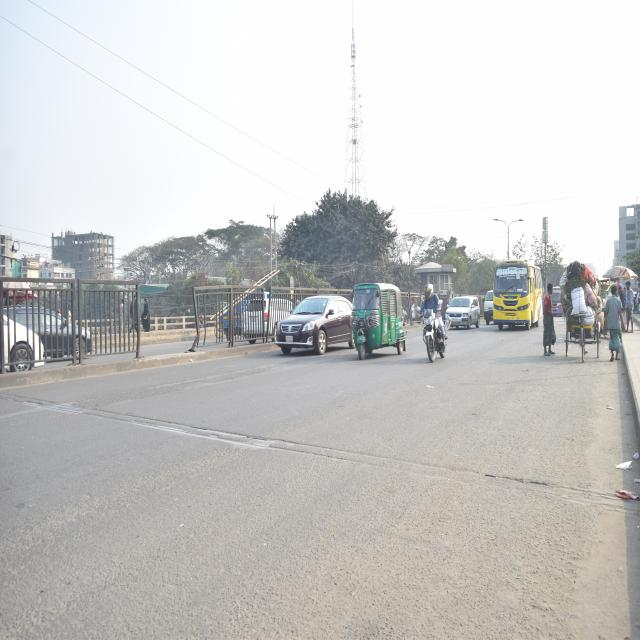bus: (492, 260, 544, 333), (550, 281, 563, 320)
car: (272, 288, 352, 356), (445, 294, 482, 333)
microbus: (481, 288, 494, 324)
motorbike: (412, 294, 448, 366)
